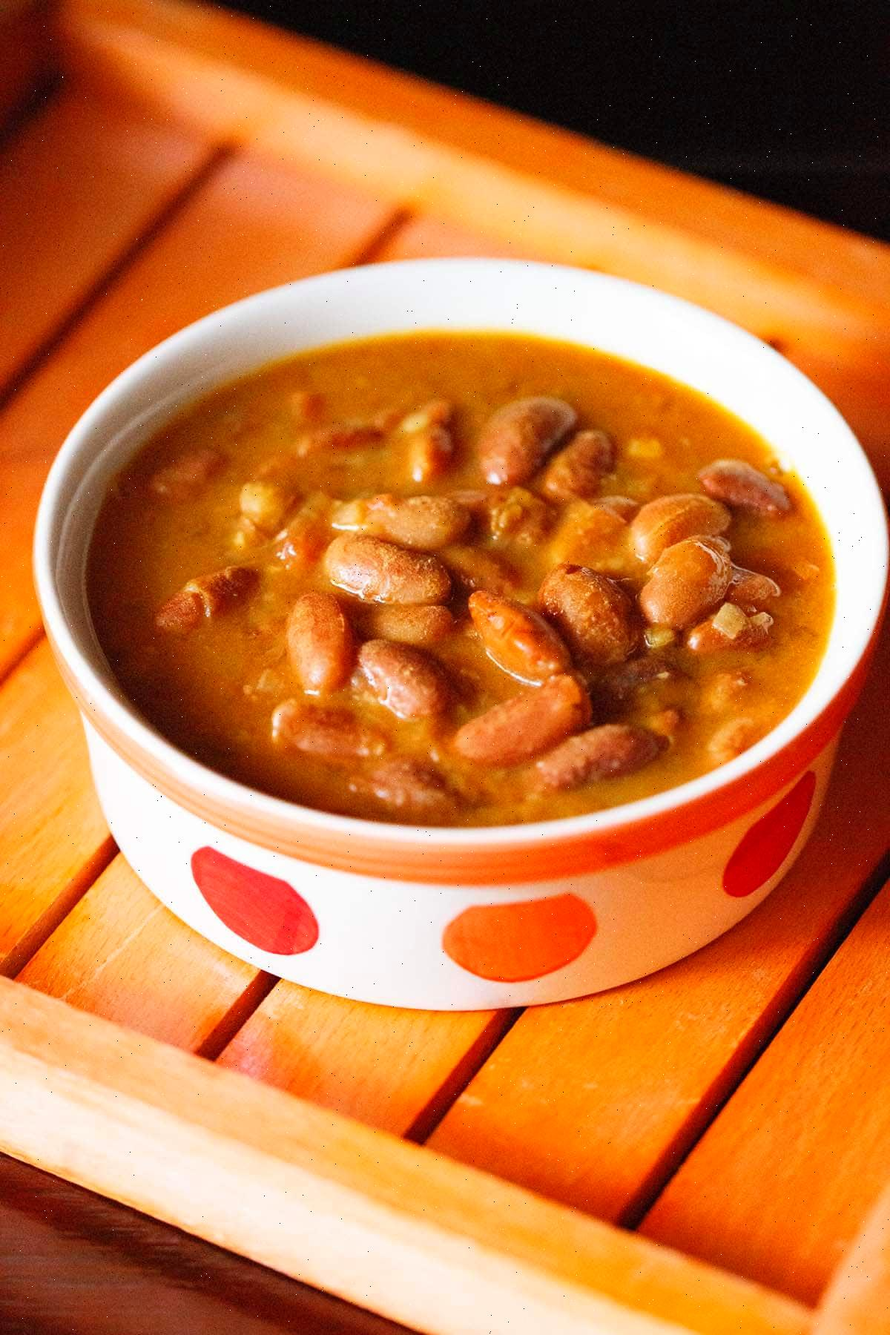rajma: (130, 330, 801, 827)
